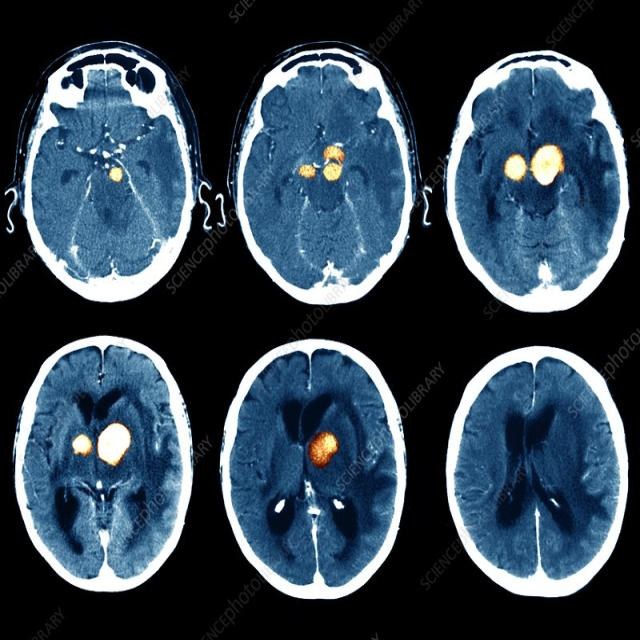Tumor: (99, 422, 129, 464), (532, 144, 564, 183), (327, 142, 344, 184), (507, 152, 525, 182), (73, 430, 91, 456), (109, 165, 124, 182), (297, 164, 315, 178)
